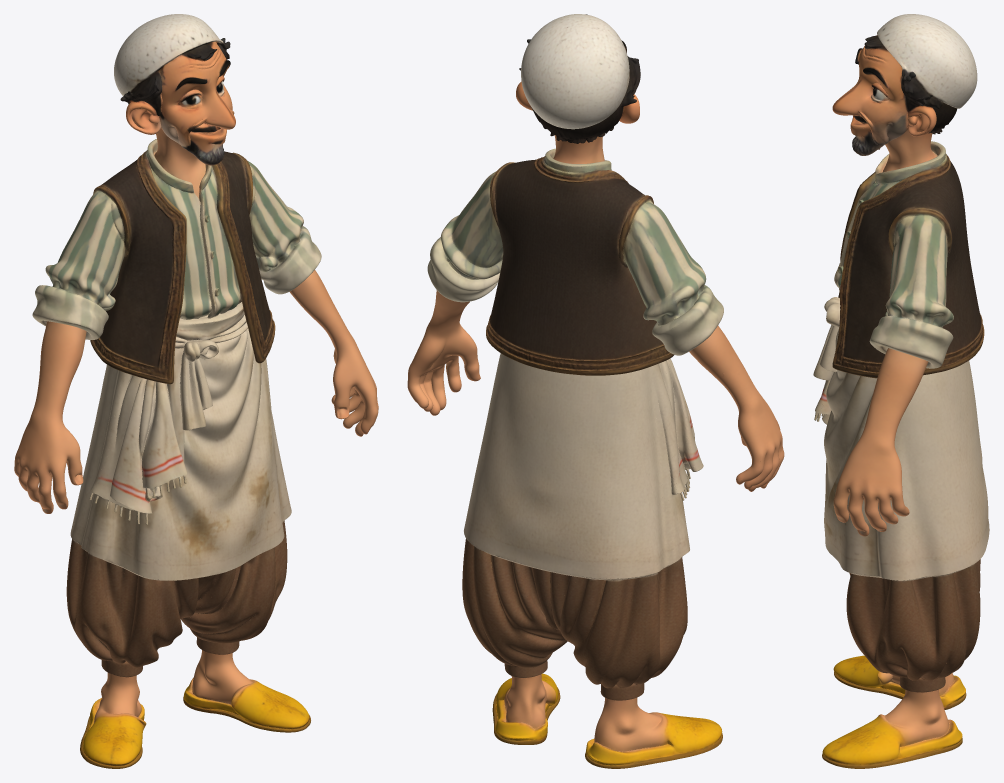
Rendered from barber__base_basic_pbr.glb.
3 views of the same model, side by side, from view 1: azimuth 30°, elevation 25°; view 2: azimuth 150°, elevation 25°; view 3: azimuth 270°, elevation 25° (orthographic). The views are drawn at different scales.
Visible parts, largest first — view 1: model; view 2: model; view 3: model.
Part boxes in pixels (x1,y1,x2,y2): model: (14, 14, 378, 768); model: (407, 14, 784, 768); model: (813, 14, 989, 768).
Size of the model in its own units: 0.988 by 1.9 by 0.4311.
1 material, 1 textured.
